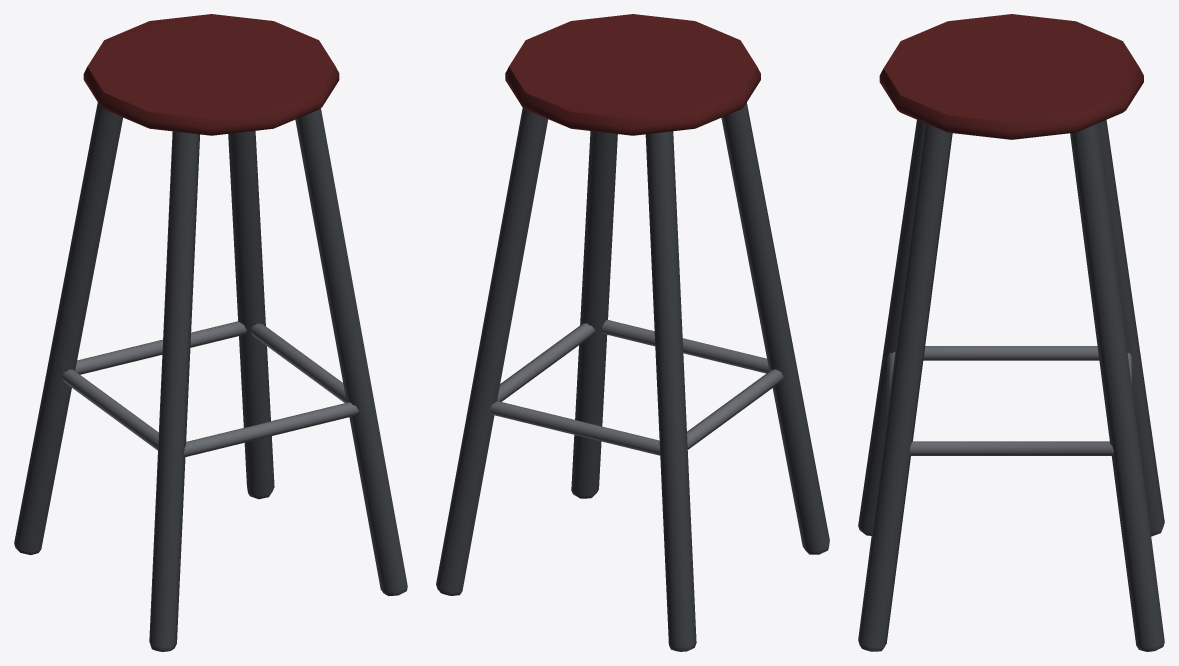
Rendered from sgabello.fbx.
3 views of the same model, side by side, from view 1: azimuth 30°, elevation 25°; view 2: azimuth 150°, elevation 25°; view 3: azimuth 270°, elevation 25° (orthographic). The views are drawn at different scales.
Visible parts, largest first — view 1: Sgabello; view 2: Sgabello; view 3: Sgabello.
Part boxes in pixels (x1,y1,x2,y2): Sgabello: (14, 14, 407, 651); Sgabello: (436, 14, 829, 651); Sgabello: (858, 14, 1164, 651).
Size of the model in its own units: 7.23 by 13.63 by 7.24.
